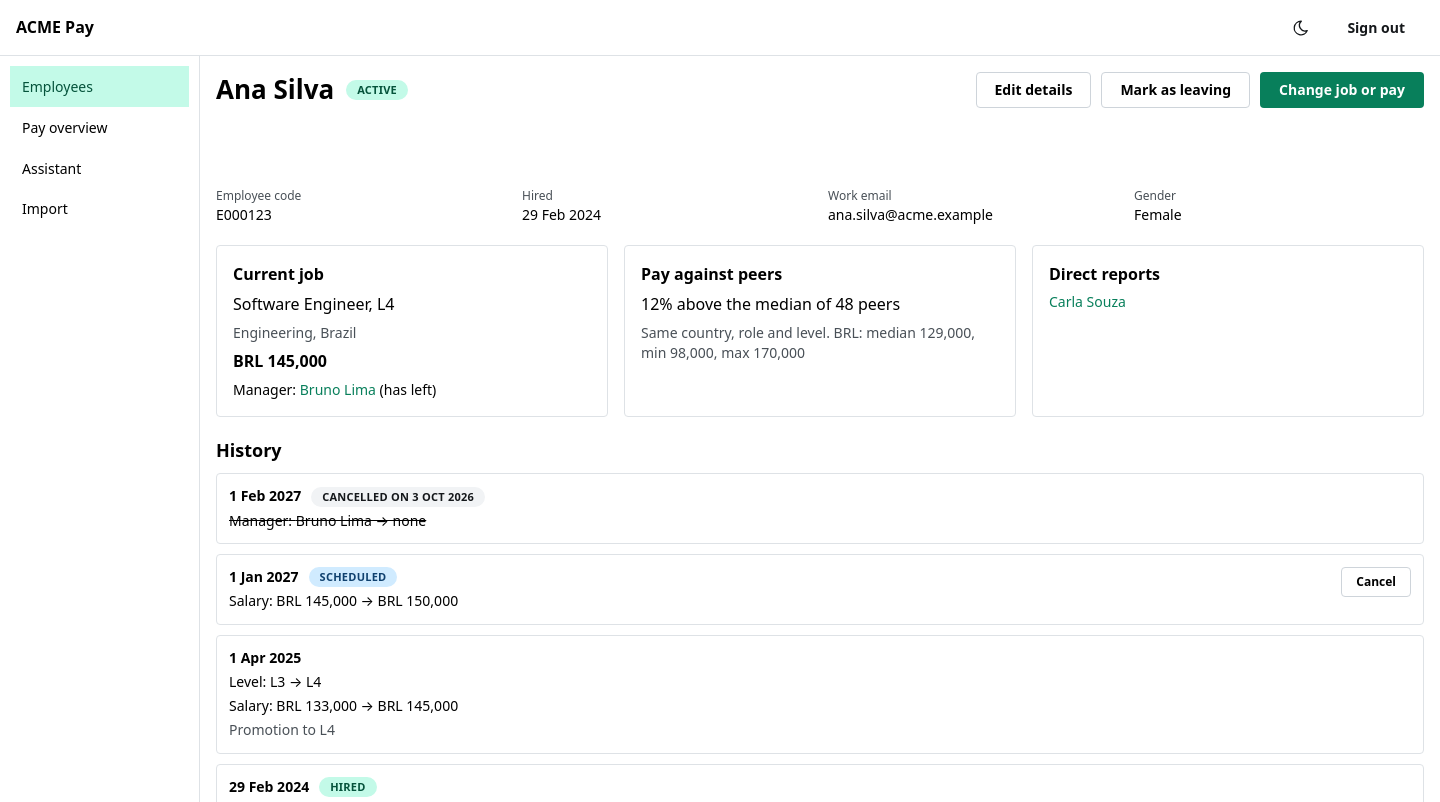
mark as leaving, then only Undo is offered
The width and height of the screenshot is (1440, 802).
Click the button "Mark as leaving": (1176, 90) [1101,72,1250,108]
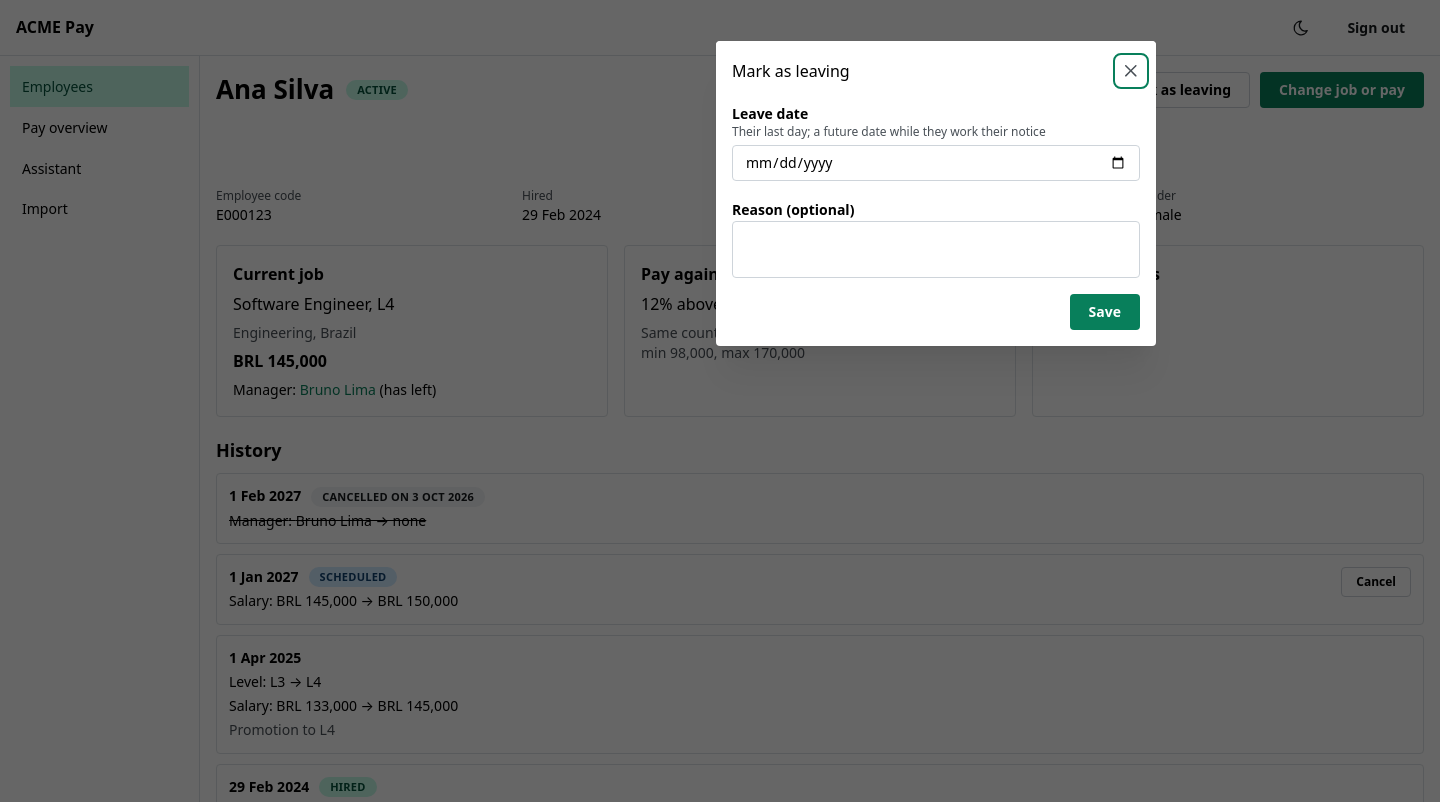
In the date field labelled "Leave date": (936, 163) [732,145,1140,181], type "2026-12-31"
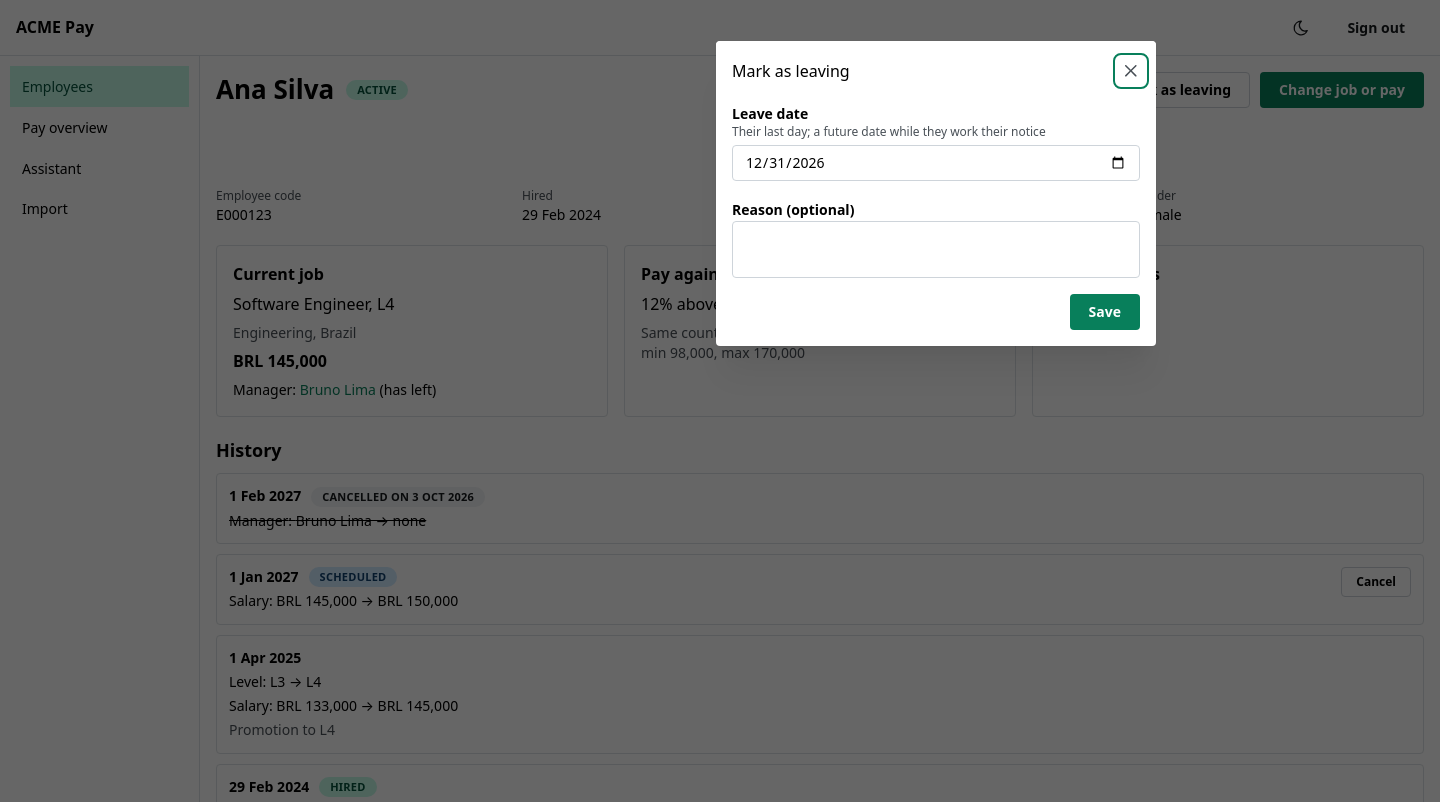
In the text box labelled "Reason (optional)": (936, 250) [732,222,1140,278], type "Moving abroad"
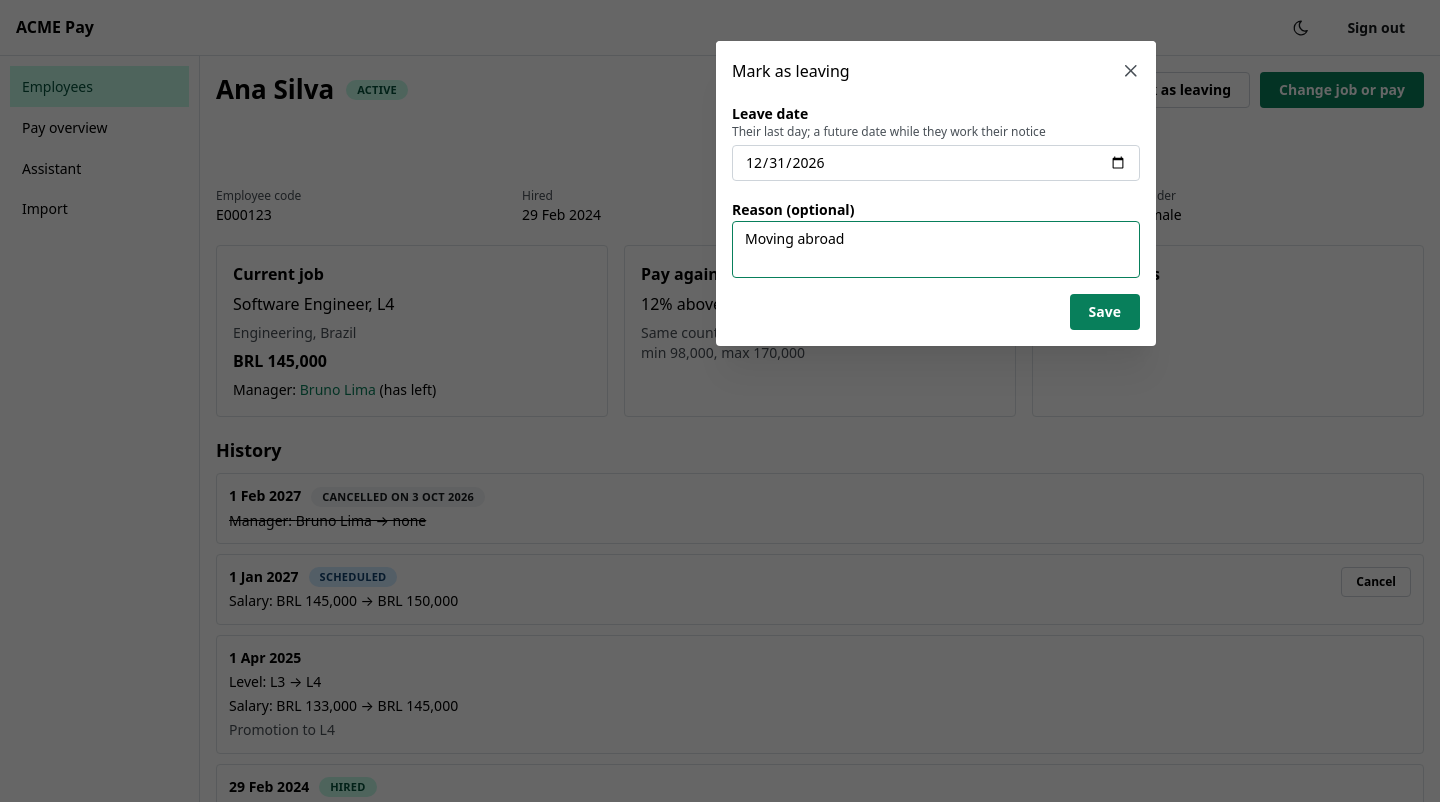
Click the button "Save": (1105, 312) [1070,294,1140,330]
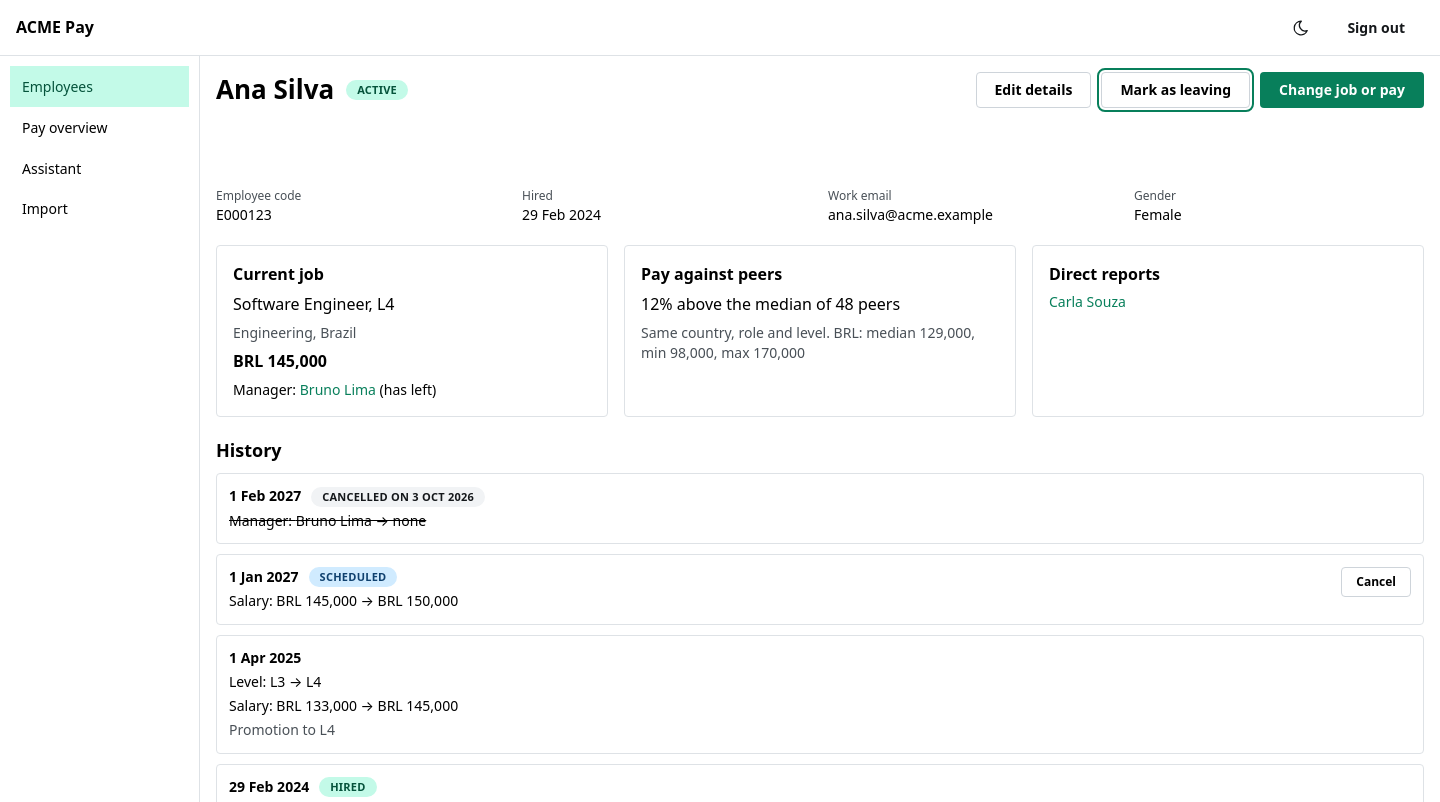
Check: the dialog is gone
